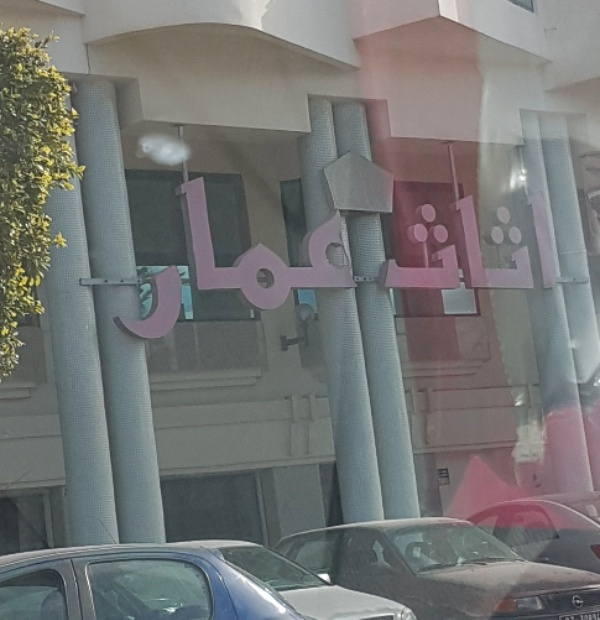text: (113, 168, 128, 351), (129, 168, 144, 351), (145, 168, 160, 351), (161, 168, 176, 351), (177, 168, 192, 351), (193, 168, 208, 351), (209, 168, 224, 351), (225, 168, 240, 351), (241, 168, 256, 351), (257, 168, 272, 351), (273, 168, 288, 351), (289, 168, 304, 351), (305, 168, 320, 351), (321, 168, 336, 351), (337, 168, 352, 351), (353, 168, 365, 351), (385, 186, 400, 304), (401, 186, 416, 304), (417, 186, 432, 304), (433, 186, 448, 304), (449, 186, 464, 304), (465, 186, 480, 304), (481, 186, 496, 304), (497, 186, 512, 304), (513, 186, 528, 304), (529, 186, 544, 304), (545, 186, 560, 304), (103, 168, 112, 351), (375, 186, 384, 304), (561, 186, 567, 304)
